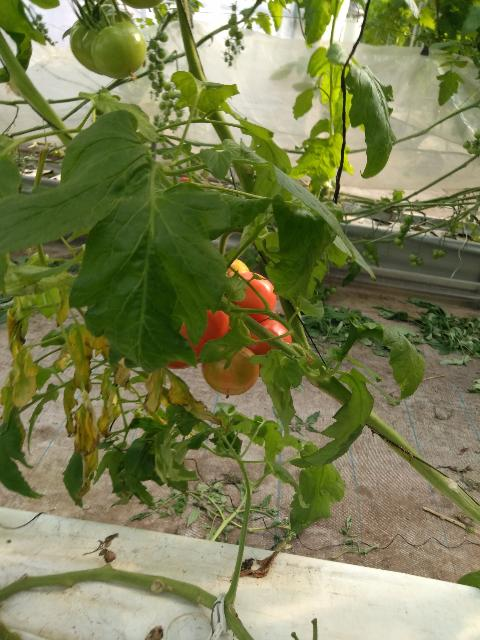b_fully_ripened: (227, 272, 277, 323), (242, 320, 291, 355)
b_green: (69, 4, 138, 75), (90, 21, 146, 79)
b_half_ripened: (201, 344, 260, 396)
